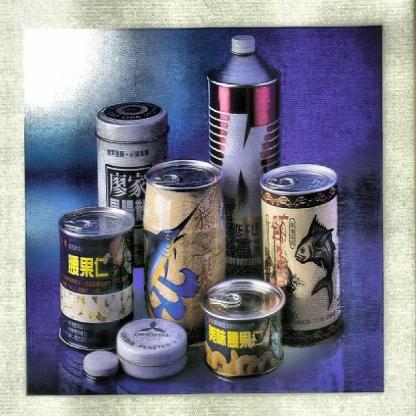Can: (140, 153, 230, 355), (256, 154, 346, 348), (94, 100, 172, 276), (57, 201, 138, 354), (200, 274, 288, 382)
